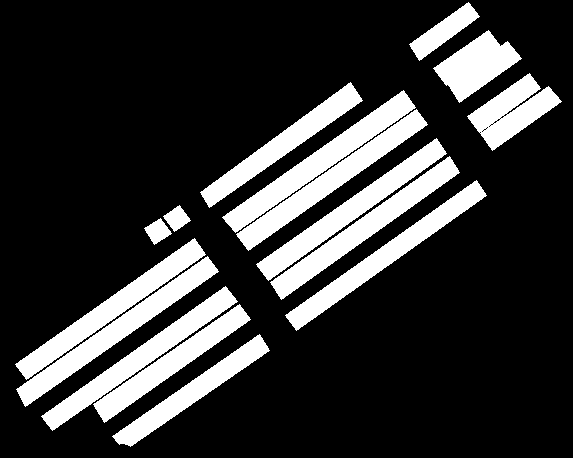parkingspot: (16, 256, 218, 406), (285, 180, 486, 330), (41, 286, 237, 430), (222, 90, 415, 232), (270, 156, 459, 299), (256, 138, 446, 280), (236, 109, 427, 250), (15, 238, 205, 379), (200, 82, 362, 207), (93, 304, 250, 422), (112, 334, 269, 446), (480, 86, 561, 150), (447, 41, 521, 102), (467, 73, 540, 132), (409, 2, 479, 60), (433, 30, 500, 85), (144, 218, 171, 244), (163, 205, 190, 231)
